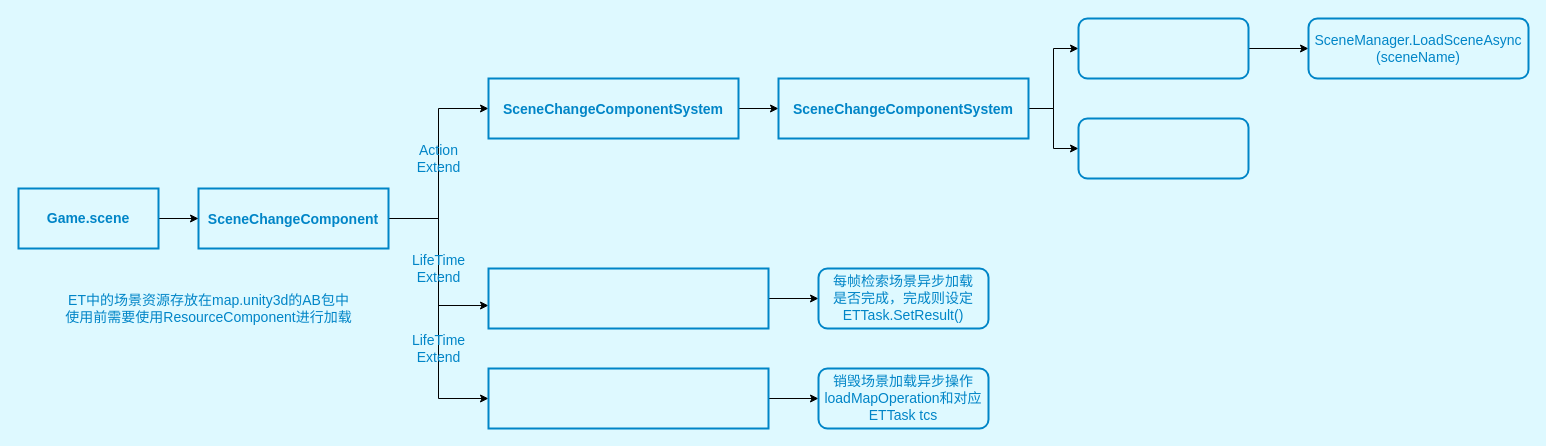
Image size: 1546x446. Some labels were removed from this diagram. The box of each missing label's shape, as (x1, y1, x2, y2) in pixels:
ChangeSceneAsync 创建协程异步加载场景: (1077, 17, 1249, 79)
Process 获取加载进度: (1077, 117, 1249, 179)
SceneChangeComponentDestroySystem: (487, 367, 769, 429)
SceneChangeComponentUpdateSystem: (487, 267, 769, 329)
